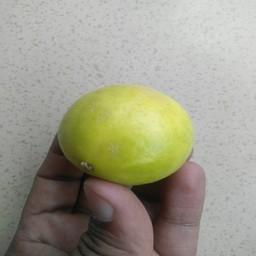Good_lime: (56, 82, 200, 189)
